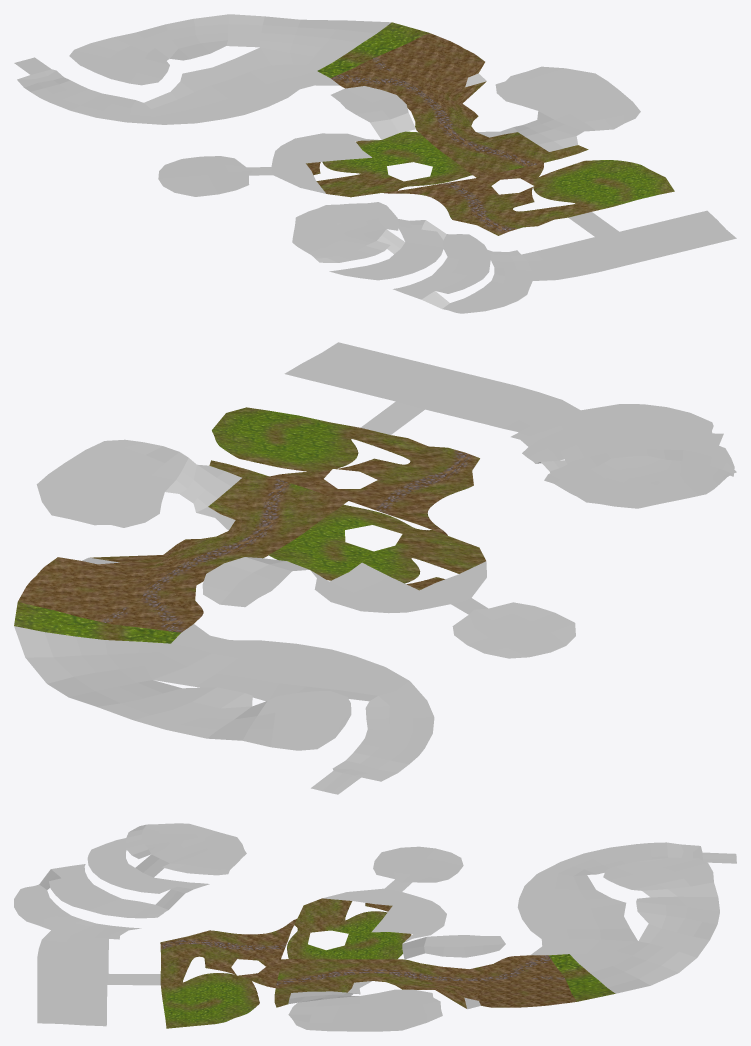
Rendered from Recast-TheGraveyard.FBX.
3 renders of one model, top to bottom at view 1: azimuth 30°, elevation 25°; view 2: azimuth 150°, elevation 25°; view 3: azimuth 270°, elevation 25°, orthographic. The views are drawn at different scales.
Visible parts, largest first — view 1: 0_Recast; view 2: 0_Recast; view 3: 0_Recast.
Part boxes in pixels (x1,y1,x2,y2): 0_Recast: (14,14,736,313); 0_Recast: (14,342,736,794); 0_Recast: (14,823,736,1031).
Size of the model in its own units: 7389 by 514 by 11137.
